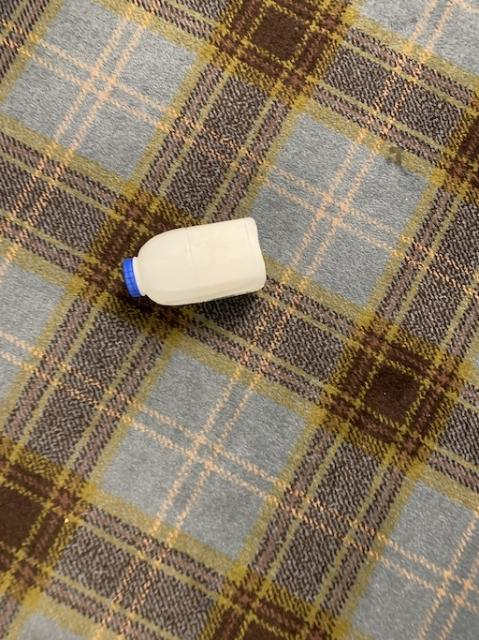plastic: (122, 216, 264, 304)
